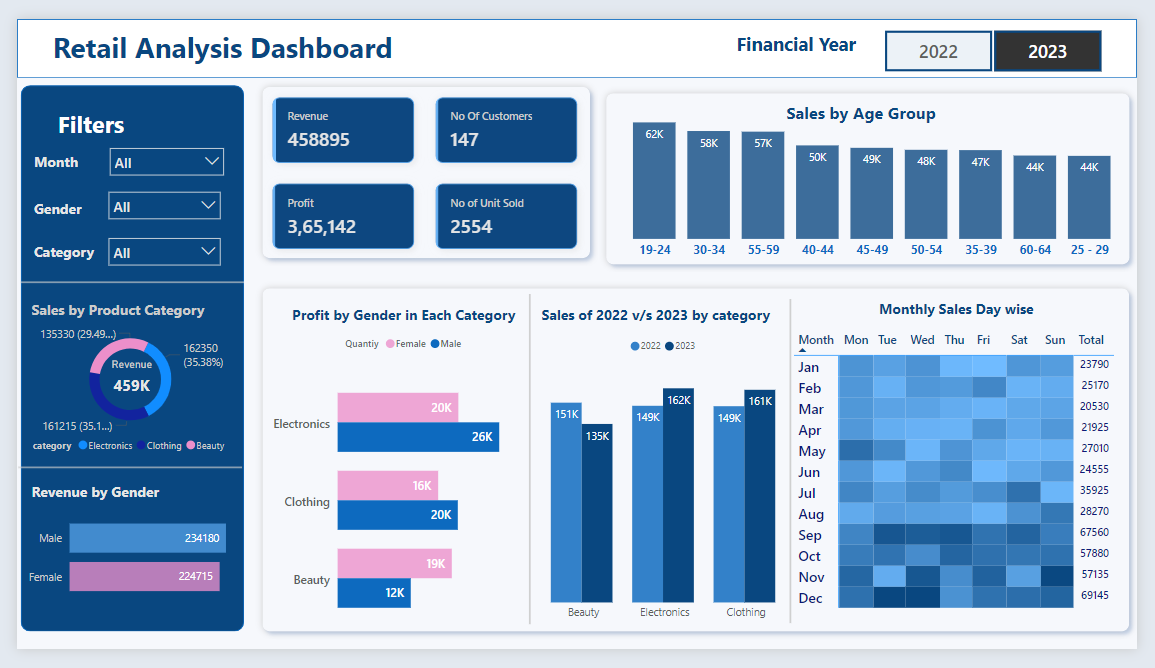

The dashboard page shown, as its layout file describes it:
{"tool":"powerbi","page":{"name":"Dashboard","canvas":[1280,720],"ordinal":0},"visuals":[{"type":"shape","box":[271.2,68.8,392.5,213.8],"z":0},{"type":"shape","box":[4.1,75.5,255.2,624.4],"z":1000},{"type":"shape","box":[0,0,1280,67.5],"z":2000},{"type":"textbox","box":[36.2,6.2,497.5,57.5],"z":3000},{"type":"slicer","fields":{"Values":["Date_Table.Year"]},"box":[972.9,8.2,285.4,56.3],"z":4000},{"type":"textbox","box":[816.5,8.2,157.8,46.7],"z":5000},{"type":"cardVisual","title":"jbjnb","fields":{"Data":["Calculations.Revenue","Calculations.Profit","Calculations.No Of custumerce","Calculations.No of Unit Sold"]},"box":[259.3,67.2,393.8,219.6],"z":6000},{"type":"textbox","box":[41.2,97.5,130,56.2],"z":7000},{"type":"shape","box":[663.8,75,616.2,213.8],"z":8000},{"type":"shape","box":[271.7,299.1,1008.6,410.3],"z":9000},{"type":"slicer","fields":{"Values":["Retail Sales.category"]},"box":[94.7,240.1,148.2,49.4],"z":10000},{"type":"slicer","fields":{"Values":["Retail Sales.gender"]},"box":[94.7,186.6,148.2,50.8],"z":11000},{"type":"donutChart","fields":{"Y":["Calculations.Revenue"],"Category":["Retail Sales.category"]},"box":[10.9,346.2,236.5,159.3],"z":12000},{"type":"barChart","fields":{"Category":["Retail Sales.gender"],"Y":["Calculations.Revenue"]},"box":[3.6,524.8,287.1,176.1],"z":13000},{"type":"card","title":"Revenue","fields":{"Values":["Calculations.Revenue"]},"box":[71.2,387.3,119.4,55.5],"z":14000},{"type":"pivotTable","fields":{"Values":["Calculations.Total Sales"],"Rows":["Date_Table.Month"],"Columns":["Date_Table.Day Name"]},"box":[882.5,346.2,397.5,373.8],"z":15000},{"type":"textbox","box":[979.8,314.2,300.5,38.4],"z":16000},{"type":"shape","box":[874.1,319.7,19.2,370.5],"z":17000},{"type":"clusteredColumnChart","fields":{"Category":["Retail_Sales.category"],"Y":["Calculations.Sales of 2022","Calculations.Sales of 2023"]},"box":[572.2,359.5,334.8,332.1],"z":18000},{"type":"textbox","box":[594.2,321.1,290.9,38.4],"z":19000},{"type":"shape","box":[577.7,314.2,17.8,377.4],"z":20000},{"type":"clusteredBarChart","fields":{"Category":["Retail_Sales.category"],"Series":["Retail_Sales.gender"],"Y":["Calculations.Profit"]},"box":[290.9,356.8,304.6,355.4],"z":21000},{"type":"textbox","box":[299.1,321.1,286.8,57.6],"z":22000},{"type":"textbox","box":[11,315.6,231.9,35.7],"z":23000},{"type":"textbox","box":[10.9,524.8,232.8,31.4],"z":24000},{"type":"slicer","fields":{"Values":["Date_Table.Month Year"]},"box":[96.1,137.2,150.9,46.7],"z":25000},{"type":"textbox","box":[13.7,146.8,87.8,37],"z":26000},{"type":"shape","box":[4.1,286.8,255.2,27.4],"z":27000},{"type":"textbox","box":[13.7,200.3,74.1,39.8],"z":28000},{"type":"textbox","box":[13.7,249.7,87.8,39.8],"z":29000},{"type":"clusteredColumnChart","fields":{"Category":["Retail_Sales.Age group"],"Y":["Calculations.Total Sales"]},"box":[673.8,75.5,606.5,207.2],"z":30000},{"type":"shape","box":[1.2,498.3,255.8,27.7],"z":31000},{"type":"textbox","box":[874.1,90.6,266.2,46.7],"z":32000}]}

Visuals, with their boxes in screenshot pixels (x1, y1, x2, y2), scaled from the page's 1280x720 canvas onto the 1155x668 screenshot:
shape: [x1=245, y1=64, x2=599, y2=262]
shape: [x1=4, y1=70, x2=234, y2=649]
shape: [x1=0, y1=0, x2=1154, y2=63]
textbox: [x1=33, y1=6, x2=482, y2=59]
slicer - Date_Table.Year: [x1=878, y1=8, x2=1135, y2=60]
textbox: [x1=737, y1=8, x2=879, y2=51]
"jbjnb" cardVisual: [x1=234, y1=62, x2=589, y2=266]
textbox: [x1=37, y1=90, x2=154, y2=143]
shape: [x1=599, y1=70, x2=1154, y2=268]
shape: [x1=245, y1=277, x2=1154, y2=658]
slicer - Retail Sales.category: [x1=85, y1=223, x2=219, y2=269]
slicer - Retail Sales.gender: [x1=85, y1=173, x2=219, y2=220]
donutChart - Calculations.Revenue x Retail Sales.category: [x1=10, y1=321, x2=223, y2=469]
barChart - Retail Sales.gender x Calculations.Revenue: [x1=3, y1=487, x2=262, y2=650]
"Revenue" card: [x1=64, y1=359, x2=172, y2=411]
pivotTable - Calculations.Total Sales x Date_Table.Month: [x1=796, y1=321, x2=1154, y2=667]
textbox: [x1=884, y1=292, x2=1154, y2=327]
shape: [x1=789, y1=297, x2=806, y2=640]
clusteredColumnChart - Retail_Sales.category x Calculations.Sales of 2022: [x1=516, y1=334, x2=818, y2=642]
textbox: [x1=536, y1=298, x2=799, y2=334]
shape: [x1=521, y1=292, x2=537, y2=642]
clusteredBarChart - Retail_Sales.category x Retail_Sales.gender: [x1=262, y1=331, x2=537, y2=661]
textbox: [x1=270, y1=298, x2=529, y2=351]
textbox: [x1=10, y1=293, x2=219, y2=326]
textbox: [x1=10, y1=487, x2=220, y2=516]
slicer - Date_Table.Month Year: [x1=87, y1=127, x2=223, y2=171]
textbox: [x1=12, y1=136, x2=92, y2=171]
shape: [x1=4, y1=266, x2=234, y2=292]
textbox: [x1=12, y1=186, x2=79, y2=223]
textbox: [x1=12, y1=232, x2=92, y2=269]
clusteredColumnChart - Retail_Sales.Age group x Calculations.Total Sales: [x1=608, y1=70, x2=1154, y2=262]
shape: [x1=1, y1=462, x2=232, y2=488]
textbox: [x1=789, y1=84, x2=1029, y2=127]
